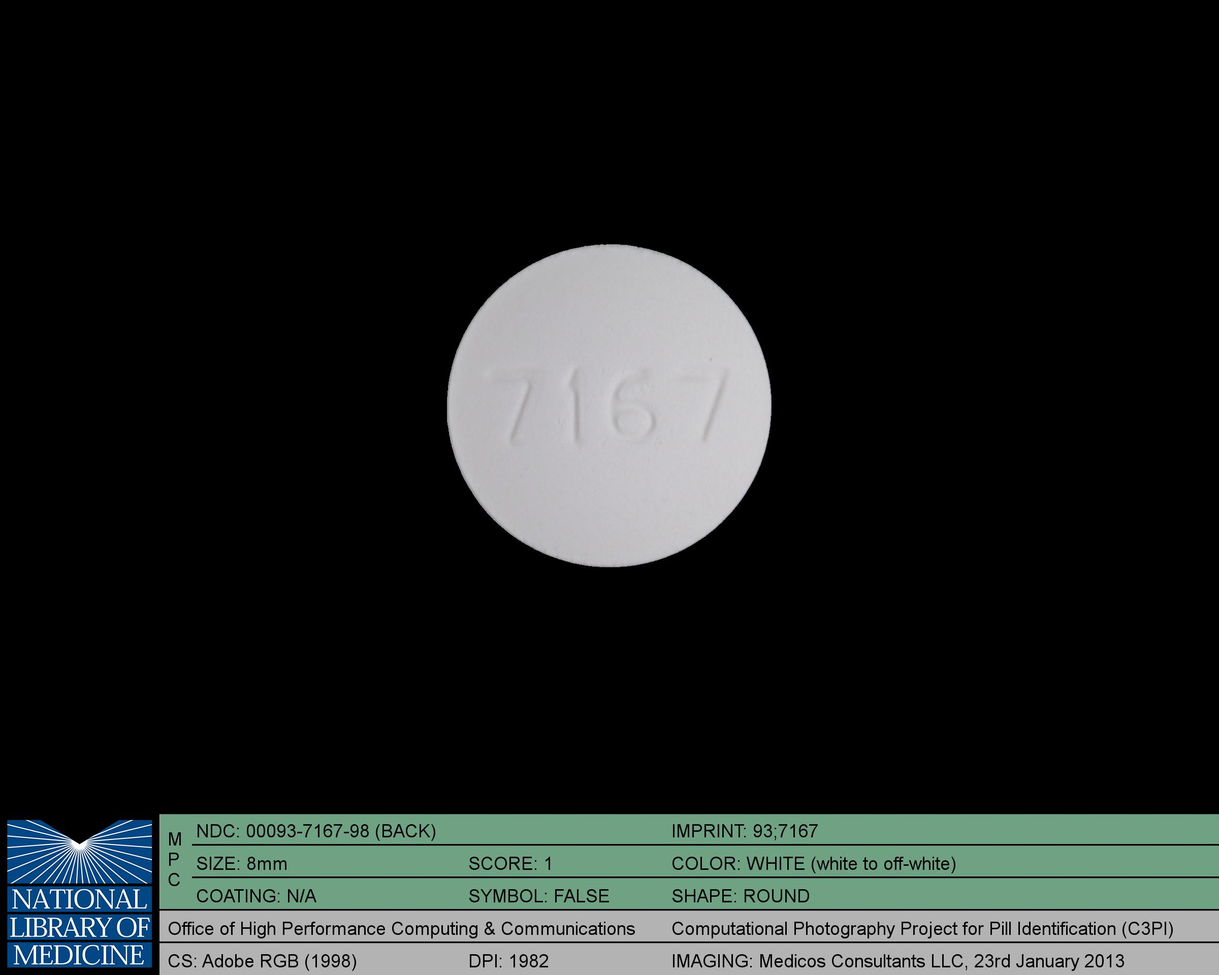Pill: (435, 234, 787, 576)
